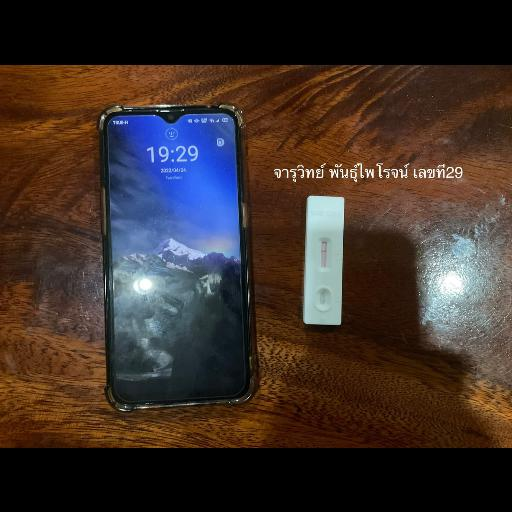Neg: (304, 196, 344, 322)
